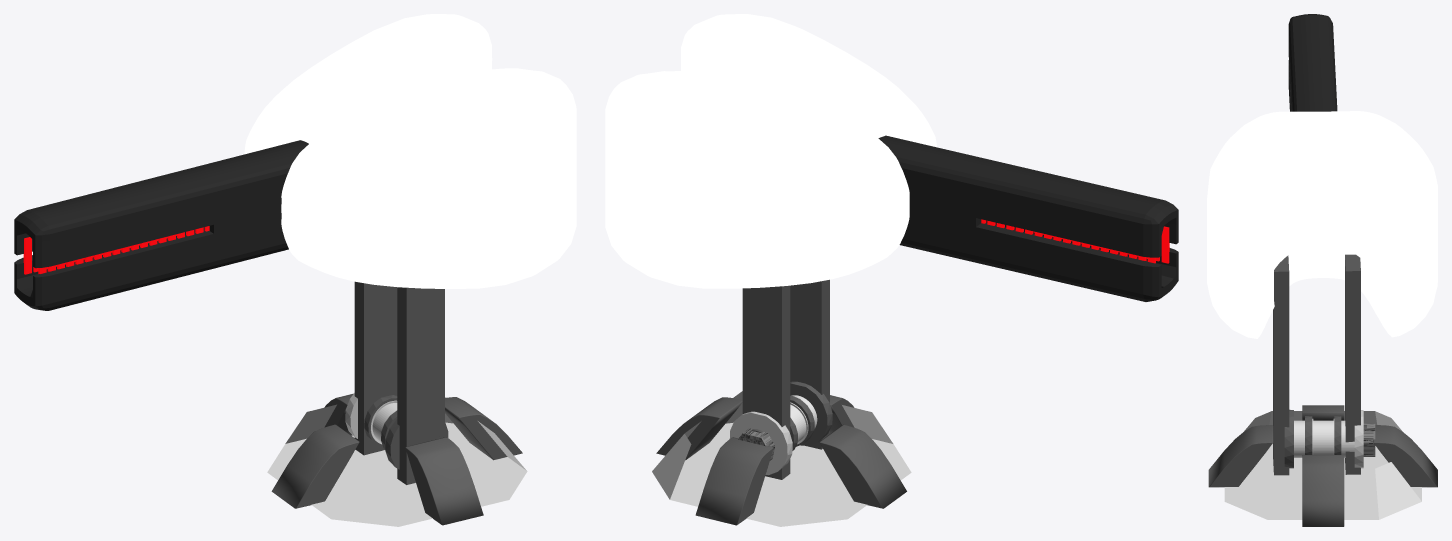
Rendered from Torreta.glb.
3 renders of one model, left to right at view 1: azimuth 30°, elevation 25°; view 2: azimuth 150°, elevation 25°; view 3: azimuth 270°, elevation 25°, orthographic. The views are drawn at different scales.
Parts seen in each view (by area): view 1: Cabeza, Cube.016, Base.001, Cube.017, BezierCurve.003, Cube.015, BezierCurve.002, Cube.022; view 2: Cabeza, Cube.016, Base.001, Cube.015, BezierCurve.003, BezierCurve.002, Cube.017, Cylinder.001, Cylinder.002, Cube.018; view 3: Cabeza, Base.001, BezierCurve.002, Cube.016, BezierCurve.003, Cube.017, Cube.015, Anillos, Cylinder.002, Cylinder.001, Cylinder.007, Cylinder.008 (+1 smaller).
Part boxes in pixels (x1=…): Cabeza: x1=244, y1=14, x2=576, y2=288; Cube.016: x1=14, y1=140, x2=308, y2=310; Base.001: x1=267, y1=397, x2=527, y2=526; Cube.017: x1=397, y1=287, x2=444, y2=484; BezierCurve.003: x1=271, y1=397, x2=522, y2=508; Cube.015: x1=354, y1=281, x2=397, y2=455; BezierCurve.002: x1=324, y1=393, x2=483, y2=525; Cube.022: x1=38, y1=226, x2=209, y2=273; Cabeza: x1=605, y1=14, x2=936, y2=288; Cube.016: x1=878, y1=135, x2=1178, y2=301; Base.001: x1=652, y1=391, x2=911, y2=526; Cube.015: x1=742, y1=285, x2=790, y2=479; BezierCurve.003: x1=656, y1=397, x2=906, y2=508; BezierCurve.002: x1=695, y1=395, x2=854, y2=525; Cube.017: x1=790, y1=279, x2=829, y2=449; Cylinder.001: x1=729, y1=411, x2=792, y2=475; Cylinder.002: x1=790, y1=381, x2=832, y2=445; Cube.018: x1=981, y1=219, x2=1155, y2=263; Cabeza: x1=1207, y1=111, x2=1437, y2=338; Base.001: x1=1224, y1=411, x2=1421, y2=519; BezierCurve.002: x1=1208, y1=425, x2=1437, y2=487; Cube.016: x1=1288, y1=14, x2=1337, y2=111; BezierCurve.003: x1=1302, y1=405, x2=1344, y2=526; Cube.017: x1=1273, y1=255, x2=1289, y2=475; Cube.015: x1=1345, y1=254, x2=1360, y2=474; Anillos: x1=1294, y1=418, x2=1354, y2=457; Cylinder.002: x1=1284, y1=409, x2=1293, y2=468; Cylinder.001: x1=1354, y1=410, x2=1363, y2=468; Cylinder.007: x1=1363, y1=423, x2=1375, y2=456; Cylinder.008: x1=1305, y1=416, x2=1312, y2=454.
Bounding box in the file's own units: 12.6 × 9.57 × 5.58.
Materials: 6 (1 with a texture image).
